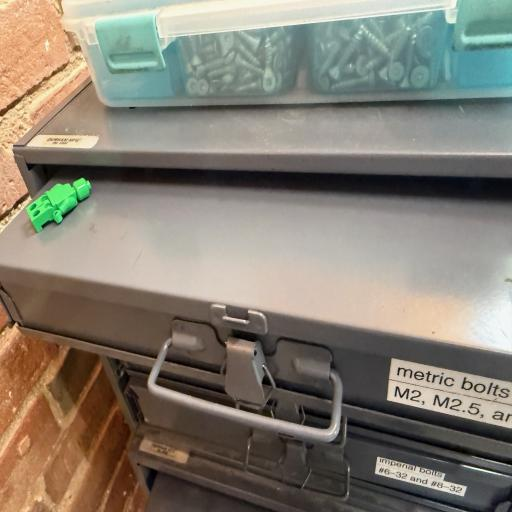Lego-Dude: (27, 178, 91, 232)
